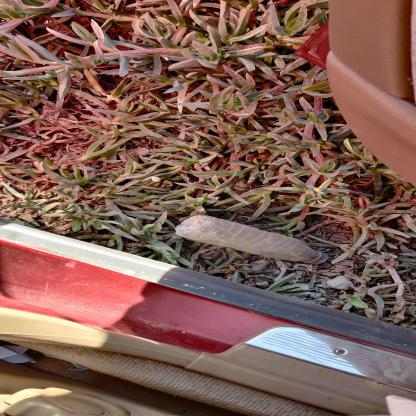plastik: (175, 216, 331, 266)
